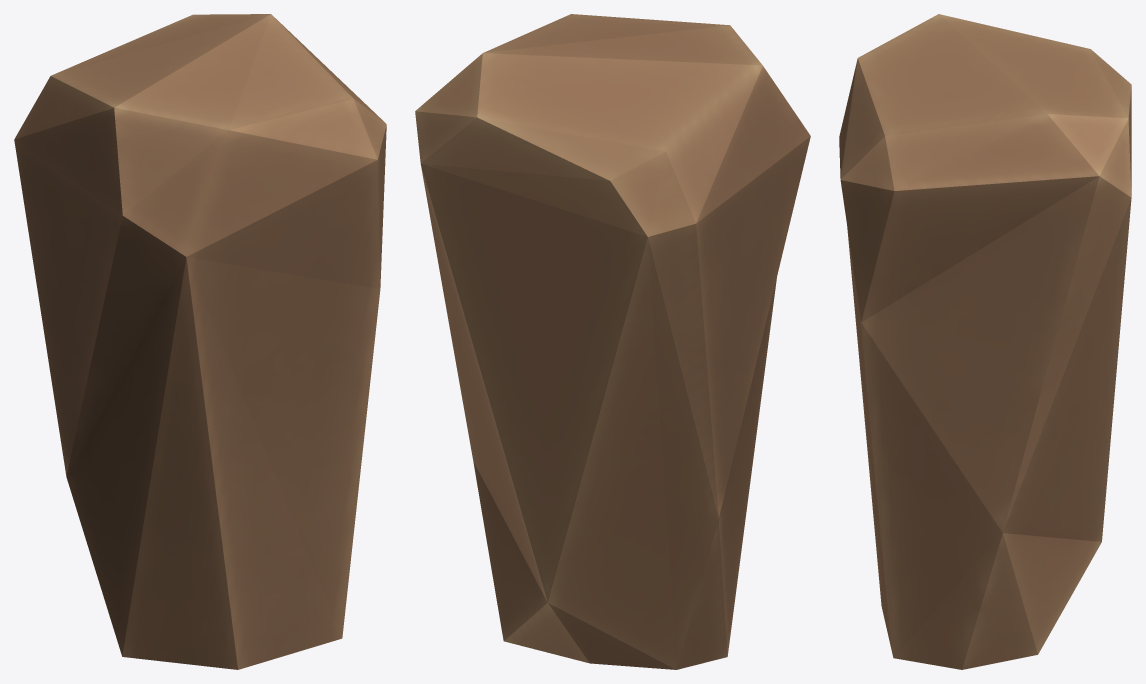
File: Rock_3.fbx
The picture shows the model from 3 angles, left to right: view 1: azimuth 30°, elevation 25°; view 2: azimuth 150°, elevation 25°; view 3: azimuth 270°, elevation 25°; orthographic projection. The views are drawn at different scales.
Visible parts, largest first — view 1: Rock_3; view 2: Rock_3; view 3: Rock_3.
Boxes of the visible parts, <box> form: Rock_3: <box>14,14,386,669</box>; Rock_3: <box>415,14,810,669</box>; Rock_3: <box>839,14,1131,669</box>.
Size of the model in its own units: 18.36 by 36.71 by 17.77.
